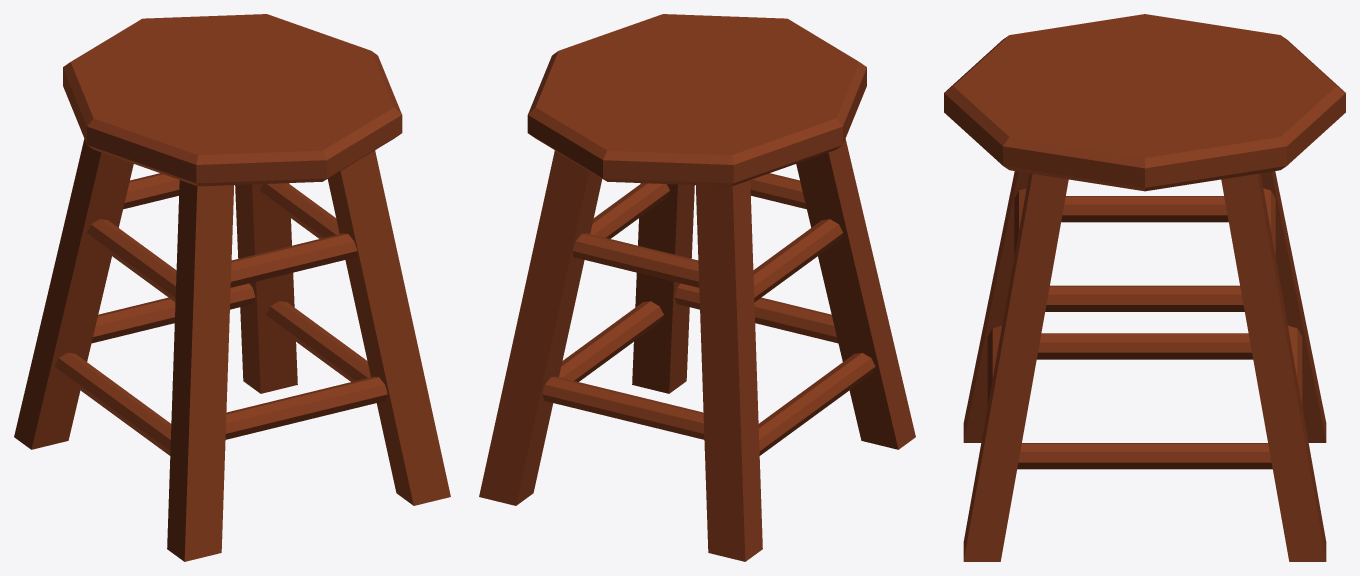
File: stool02.gltf
3 views of the same model, side by side, from view 1: azimuth 30°, elevation 25°; view 2: azimuth 150°, elevation 25°; view 3: azimuth 270°, elevation 25° (orthographic). The views are drawn at different scales.
Parts seen in each view (by area): view 1: stool; view 2: stool; view 3: stool.
Boxes of the visible parts, left/top/right/bottom form: stool: left=14, top=14, right=450, bottom=561; stool: left=479, top=14, right=915, bottom=561; stool: left=944, top=14, right=1345, bottom=561.
Size of the model in its own units: 0.5087 by 0.6389 by 0.5721.
